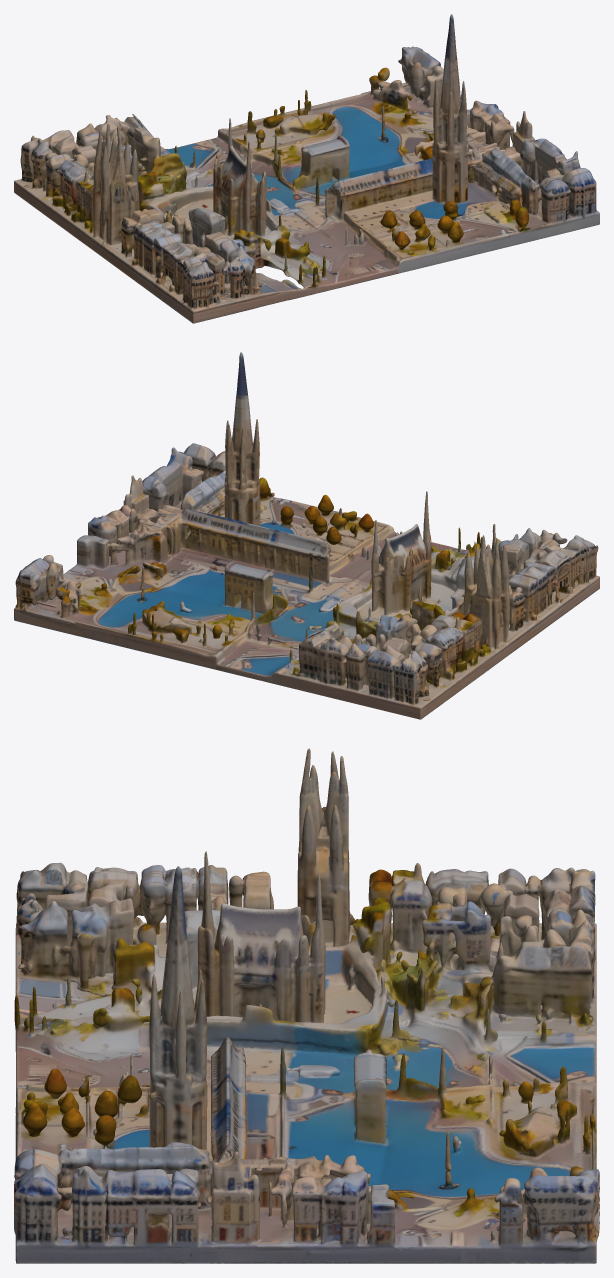
File: Bordeaux_Franch.glb
The picture shows the model from 3 angles, top to bottom: view 1: azimuth 30°, elevation 25°; view 2: azimuth 150°, elevation 25°; view 3: azimuth 270°, elevation 25°; orthographic projection. The views are drawn at different scales.
Visible parts, largest first — view 1: tripo_node_28394c2c-908e-49e9-becb-6d2391b4ef38; view 2: tripo_node_28394c2c-908e-49e9-becb-6d2391b4ef38; view 3: tripo_node_28394c2c-908e-49e9-becb-6d2391b4ef38.
Part boxes in pixels (<box>): tripo_node_28394c2c-908e-49e9-becb-6d2391b4ef38: <box>14,14,599,323</box>; tripo_node_28394c2c-908e-49e9-becb-6d2391b4ef38: <box>14,352,599,719</box>; tripo_node_28394c2c-908e-49e9-becb-6d2391b4ef38: <box>14,748,599,1263</box>.
Size of the model in its own units: 1 by 0.4672 by 0.7652.
1 material, 1 textured.
